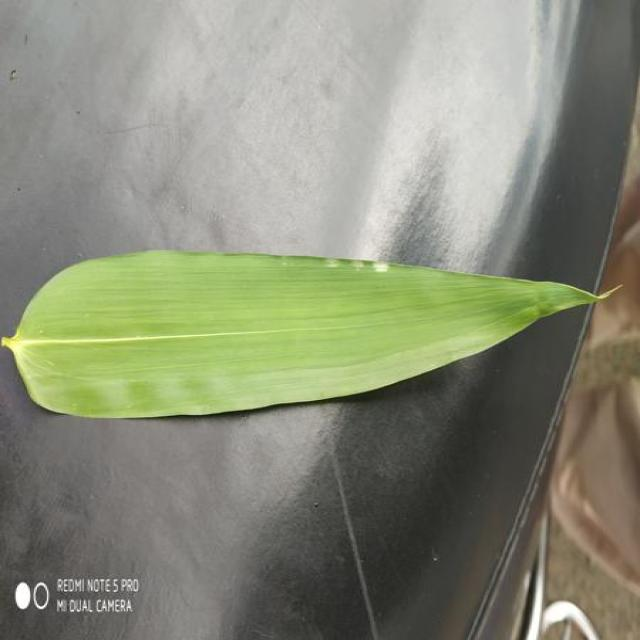Bamboo: (3, 250, 608, 418)
defectedBamboo: (262, 256, 433, 328)
